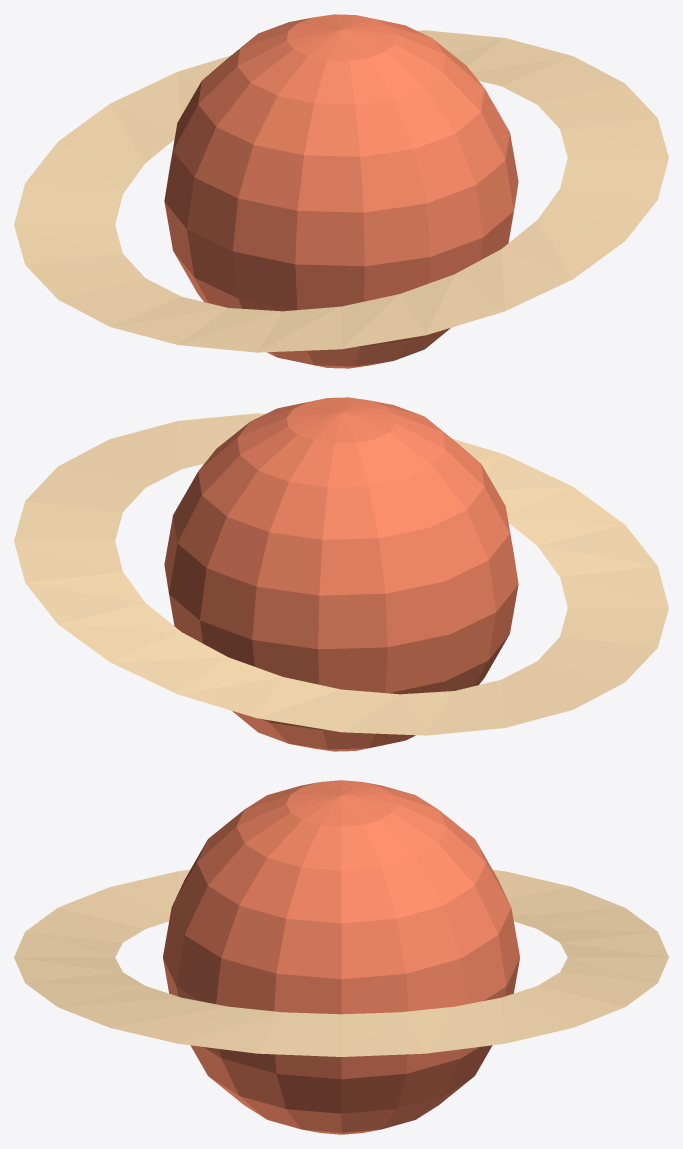
The model's file is planet.glb.
3 renders of one model, top to bottom at view 1: azimuth 30°, elevation 25°; view 2: azimuth 150°, elevation 25°; view 3: azimuth 270°, elevation 25°, orthographic.
Visible parts, largest first — view 1: planet; view 2: planet; view 3: planet.
Boxes of the visible parts, x1,y1,x2,y2 form: planet: [14, 14, 668, 368]; planet: [14, 397, 668, 751]; planet: [14, 780, 668, 1134].
Size of the model in its own units: 1.1 by 0.6 by 1.1.
